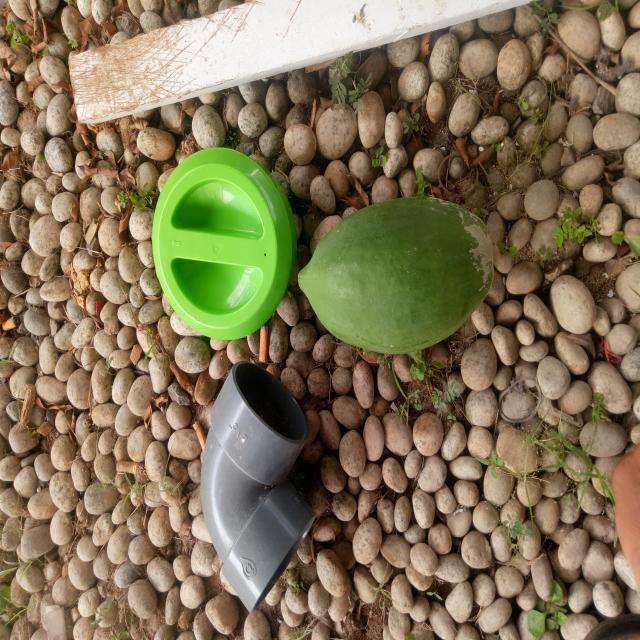Pepaya unrippen: (293, 192, 495, 349)
